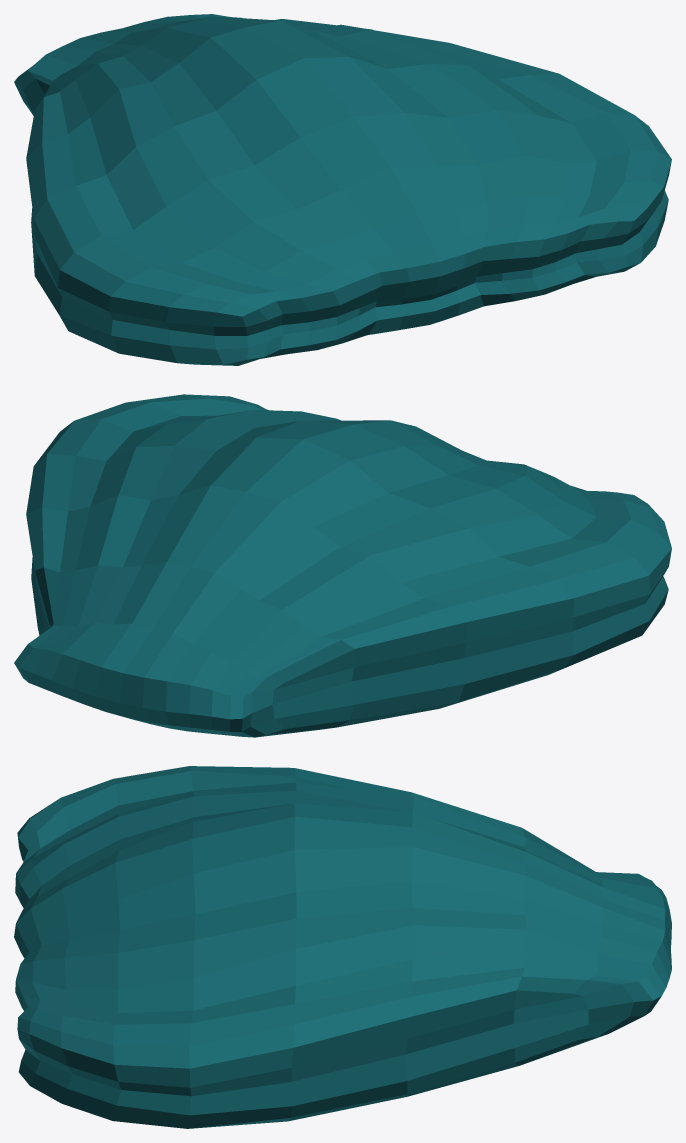
The model's file is clam_001.fbx.
The picture shows the model from 3 angles, top to bottom: view 1: azimuth 30°, elevation 25°; view 2: azimuth 150°, elevation 25°; view 3: azimuth 270°, elevation 25°; orthographic projection. The views are drawn at different scales.
Visible parts, largest first — view 1: mesh_1; view 2: mesh_1; view 3: mesh_1.
Boxes of the visible parts, x1,y1,x2,y2 form: mesh_1: [14, 14, 671, 365]; mesh_1: [14, 394, 671, 737]; mesh_1: [14, 766, 671, 1128].
Size of the model in its own units: 1 by 0.3824 by 0.939.
